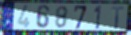1: (93, 5, 102, 31)
4: (17, 3, 32, 30)
6: (36, 4, 51, 30)
7: (73, 5, 88, 31)
8: (54, 5, 70, 29)
T: (111, 6, 125, 30)
